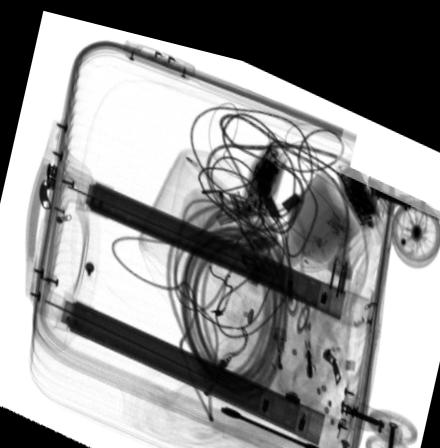Wrench: (220, 395, 322, 439)
